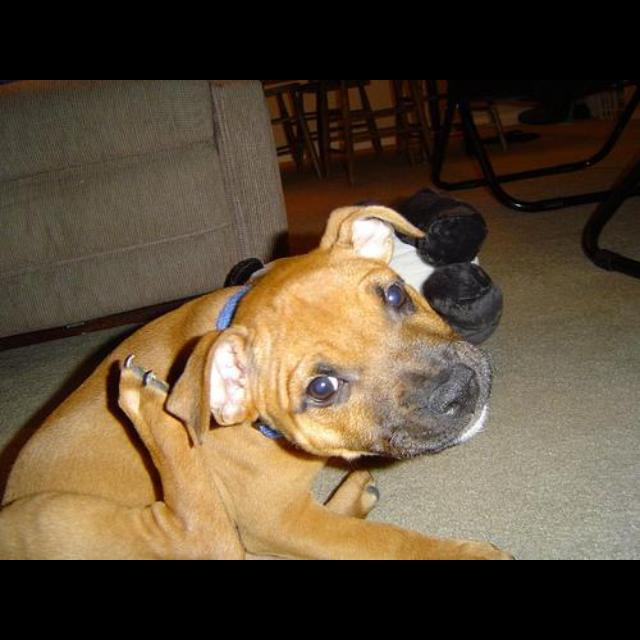amstaff: (1, 202, 519, 560)
